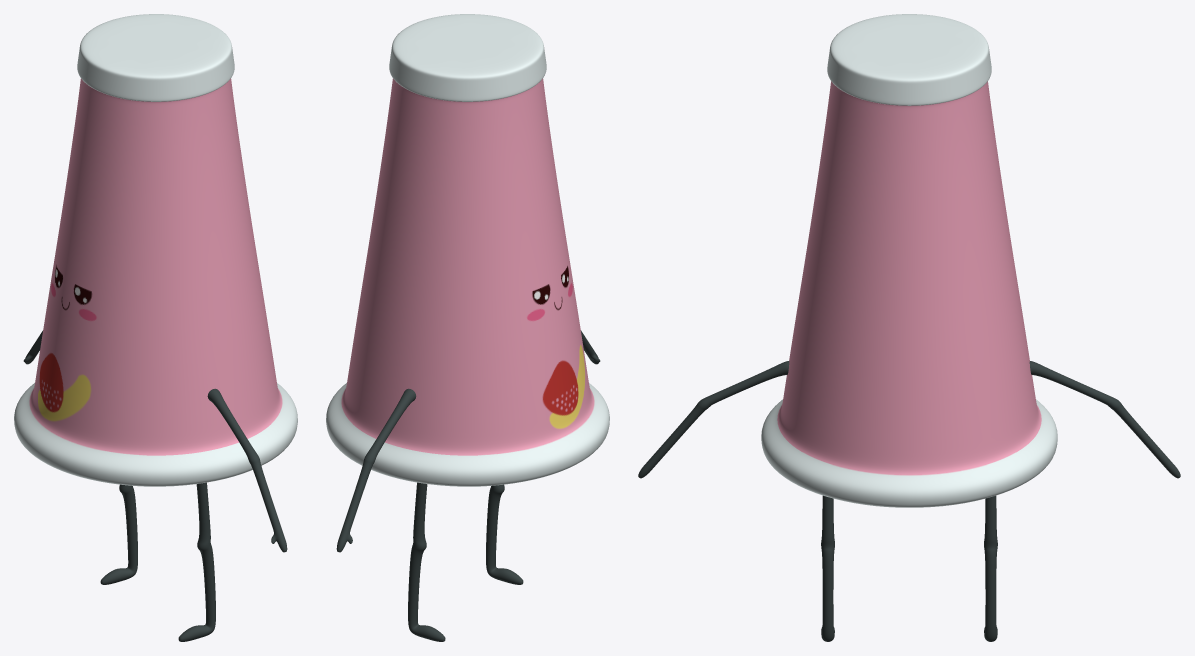
File: Yogi_Yogurt.dae
The picture shows the model from 3 angles, left to right: view 1: azimuth 30°, elevation 25°; view 2: azimuth 150°, elevation 25°; view 3: azimuth 270°, elevation 25°; orthographic projection. The views are drawn at different scales.
Visible parts, largest first — view 1: Yogurt; view 2: Yogurt; view 3: Yogurt.
Boxes of the visible parts, x1,y1,x2,y2 form: Yogurt: (14, 14, 297, 641); Yogurt: (326, 14, 609, 641); Yogurt: (638, 14, 1180, 641).
Size of the model in its own units: 1.44 by 3.18 by 2.64.
Materials: 1 (1 with a texture image).
